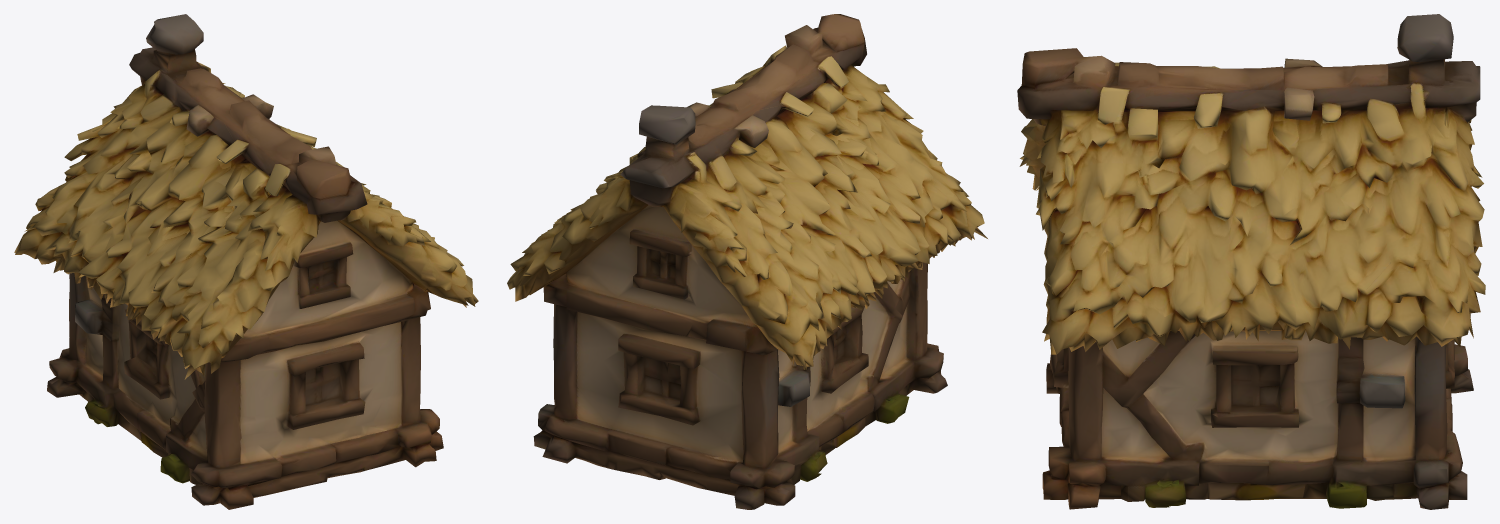
File: house_timber.glb
The picture shows the model from 3 angles, left to right: view 1: azimuth 30°, elevation 25°; view 2: azimuth 150°, elevation 25°; view 3: azimuth 270°, elevation 25°; orthographic projection. The views are drawn at different scales.
Visible parts, largest first — view 1: tripo_node_afd583e5-4258-4d2a-9ebf-07f6e372ae88; view 2: tripo_node_afd583e5-4258-4d2a-9ebf-07f6e372ae88; view 3: tripo_node_afd583e5-4258-4d2a-9ebf-07f6e372ae88.
Boxes of the visible parts, x1,y1,x2,y2 form: tripo_node_afd583e5-4258-4d2a-9ebf-07f6e372ae88: (14, 14, 478, 509); tripo_node_afd583e5-4258-4d2a-9ebf-07f6e372ae88: (507, 14, 987, 509); tripo_node_afd583e5-4258-4d2a-9ebf-07f6e372ae88: (1017, 14, 1485, 509).
Size of the model in its own units: 0.8877 by 0.9925 by 1.
Materials: 1 (1 with a texture image).
